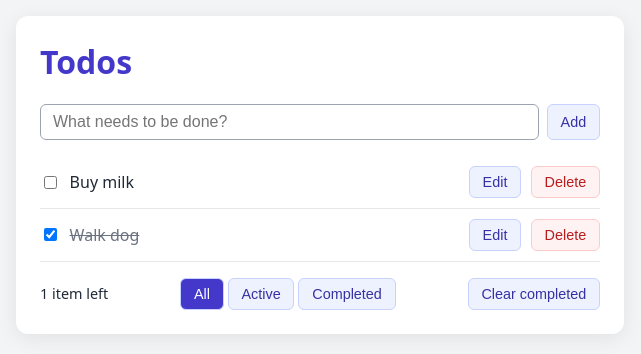
Test: TodoApp › clears completed
This screenshot has width=641, height=354.
expect the text "Walk dog" is shown: met, box [70,224,139,246]
Step 1. Click the button "Clear completed" → (534, 294), box [468,278,600,310]
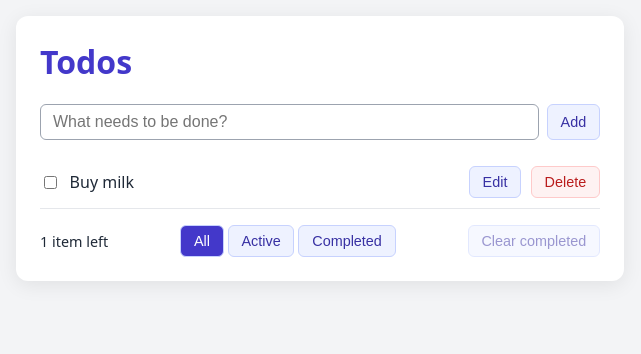
expect the text "Buy milk" is shown: met, box [70,171,134,193]
expect the text "Walk dog" is gone: met
